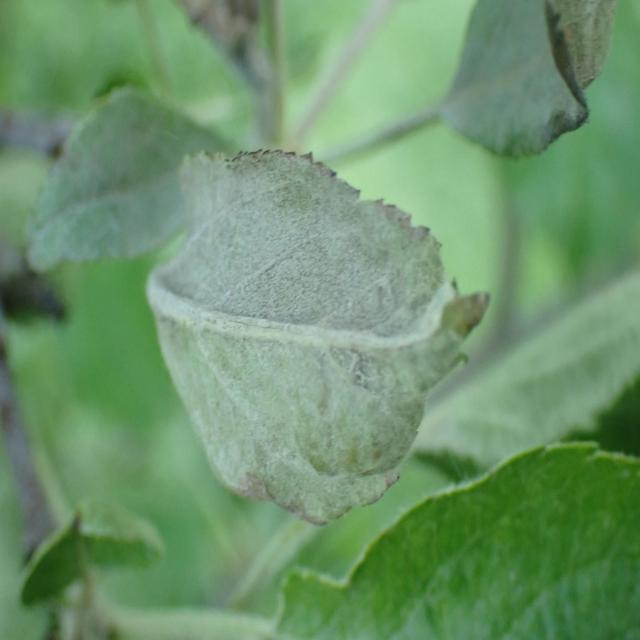Powdery_mildew: (149, 131, 481, 535), (13, 78, 245, 296), (450, 0, 628, 181)
